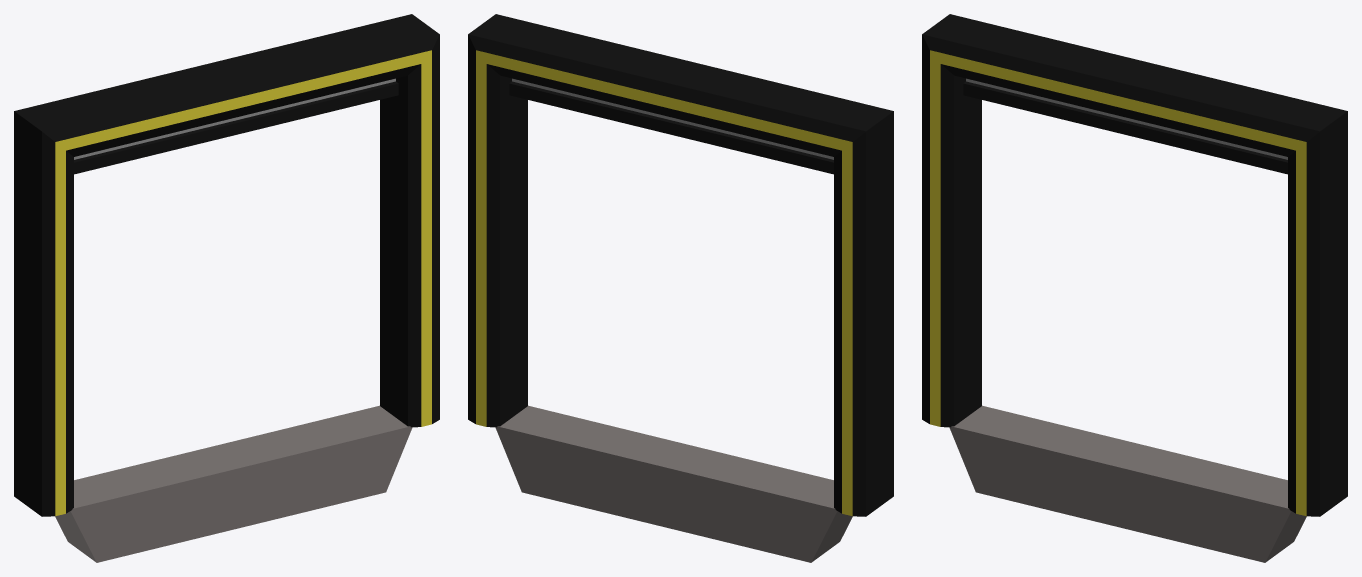
Rendered from loadingBayDoorOpen.fbx.
The picture shows the model from 3 angles, left to right: view 1: azimuth 30°, elevation 25°; view 2: azimuth 150°, elevation 25°; view 3: azimuth 330°, elevation 25°; orthographic projection.
Parts seen in each view (by area): view 1: Loading Bay Door Open; view 2: Loading Bay Door Open; view 3: Loading Bay Door Open.
Part boxes in pixels (bbox=[...]): Loading Bay Door Open: bbox=[14, 14, 439, 562]; Loading Bay Door Open: bbox=[468, 14, 893, 562]; Loading Bay Door Open: bbox=[922, 14, 1347, 562].
Bounding box in the file's own units: 232 × 33.75 × 247.
